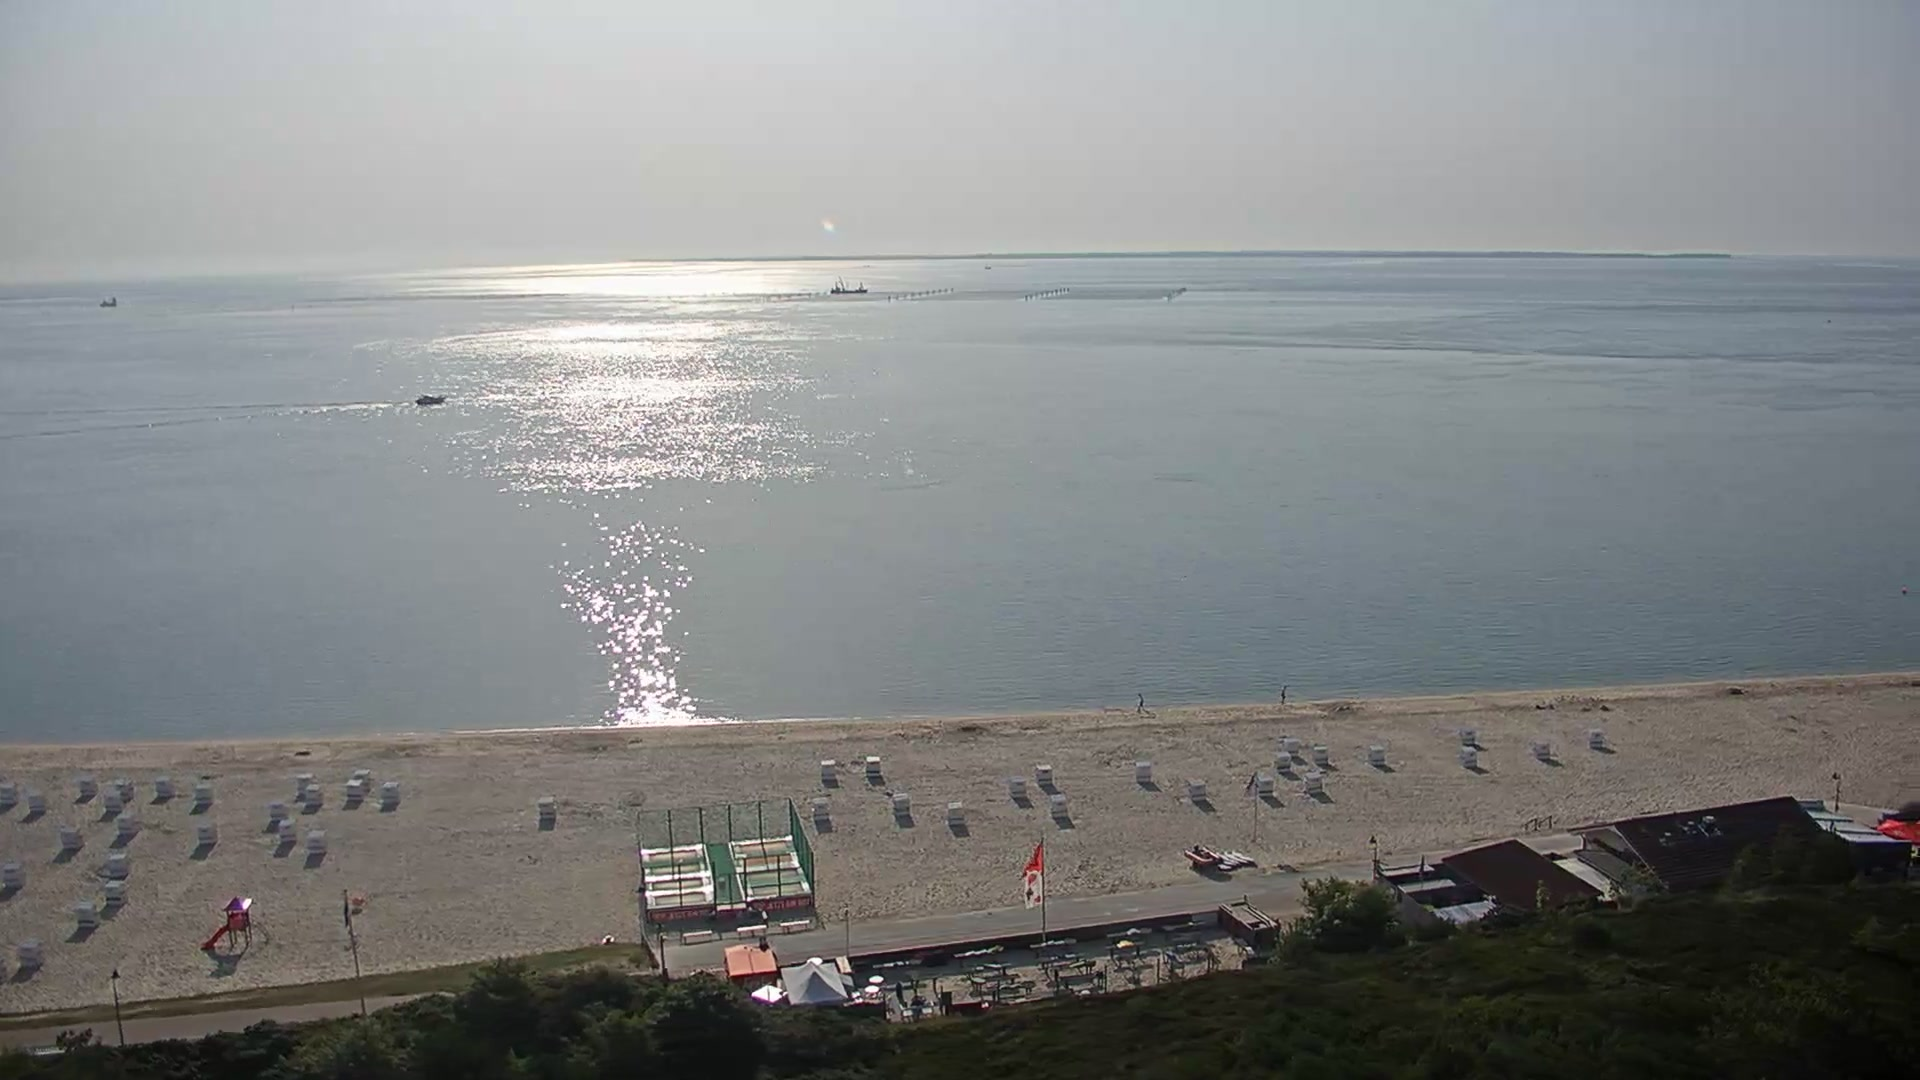human: (1135, 692, 1146, 714), (1278, 682, 1287, 703), (601, 932, 615, 945)
sea: (1183, 840, 1220, 866), (829, 276, 869, 295), (416, 392, 446, 405), (98, 296, 118, 308)
